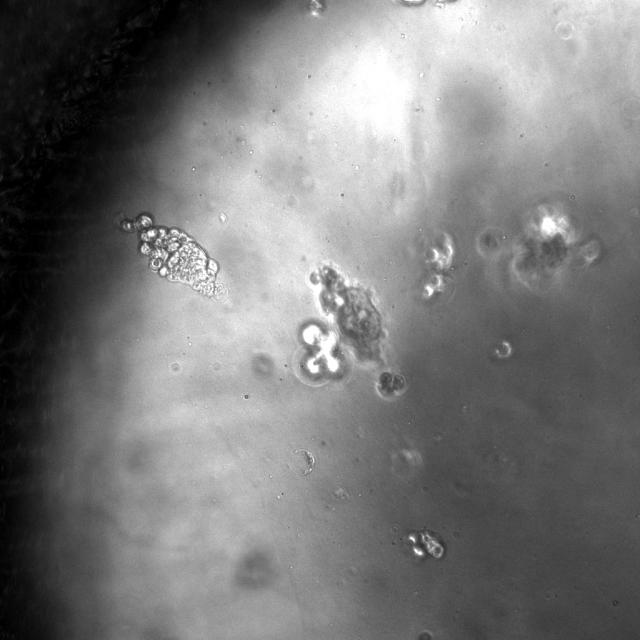organoid: (294, 266, 383, 385), (476, 204, 601, 286), (121, 212, 228, 301), (421, 232, 454, 302), (405, 529, 446, 560), (376, 371, 407, 398), (417, 630, 433, 639)
